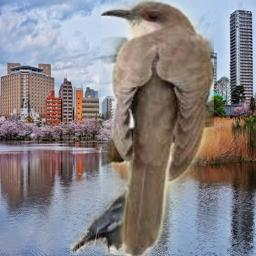Crow: (70, 175, 150, 255)
Cuckoo: (101, 0, 214, 256)
